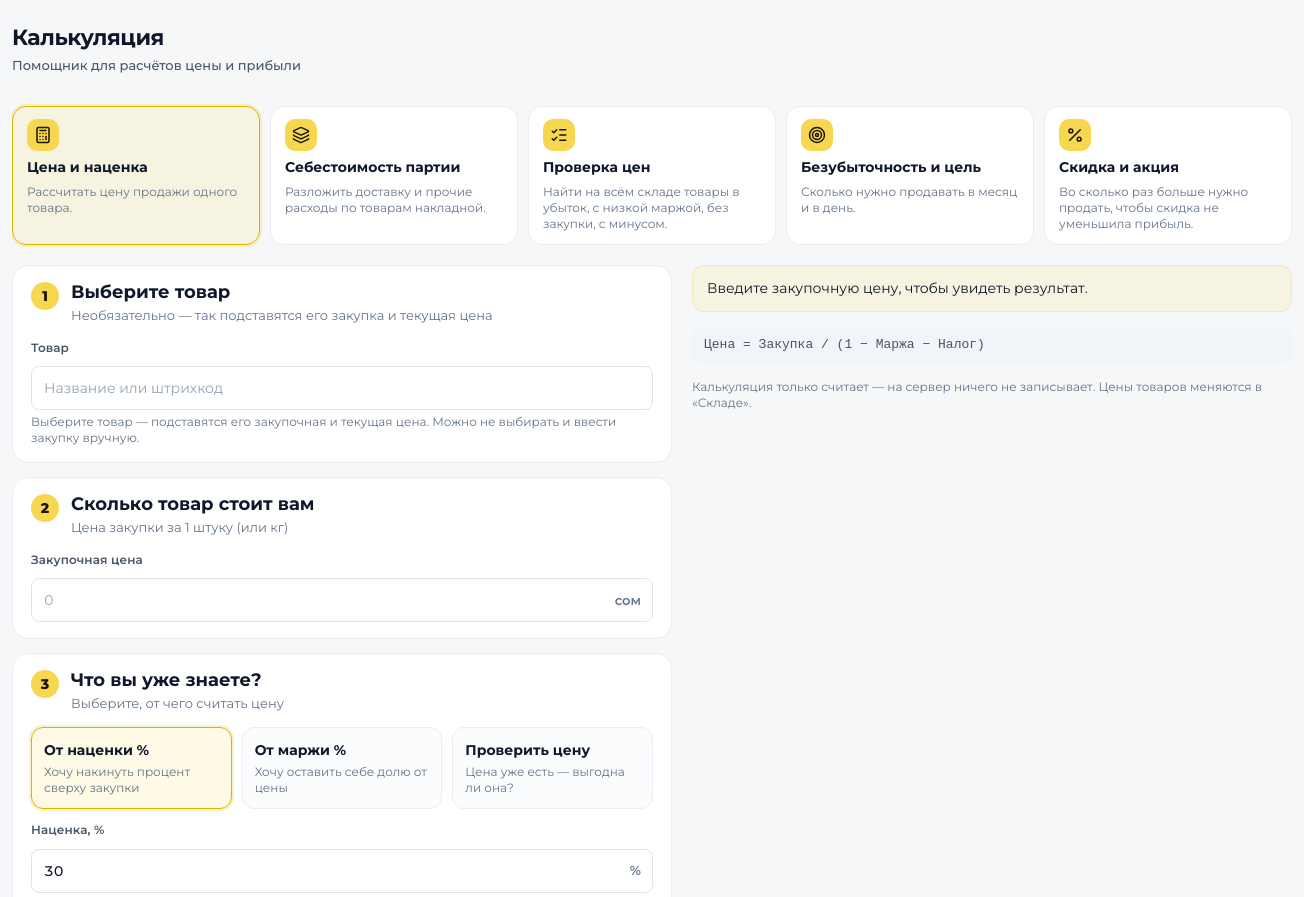
it: Калькуляция › скидка: маржа 30 %, скидка 10 % → в 1,5 раз(а)
The width and height of the screenshot is (1304, 897).
Step 1. Click the tab "Скидка и акция" → (1168,176), box left=1044, top=106, right=1292, bottom=245
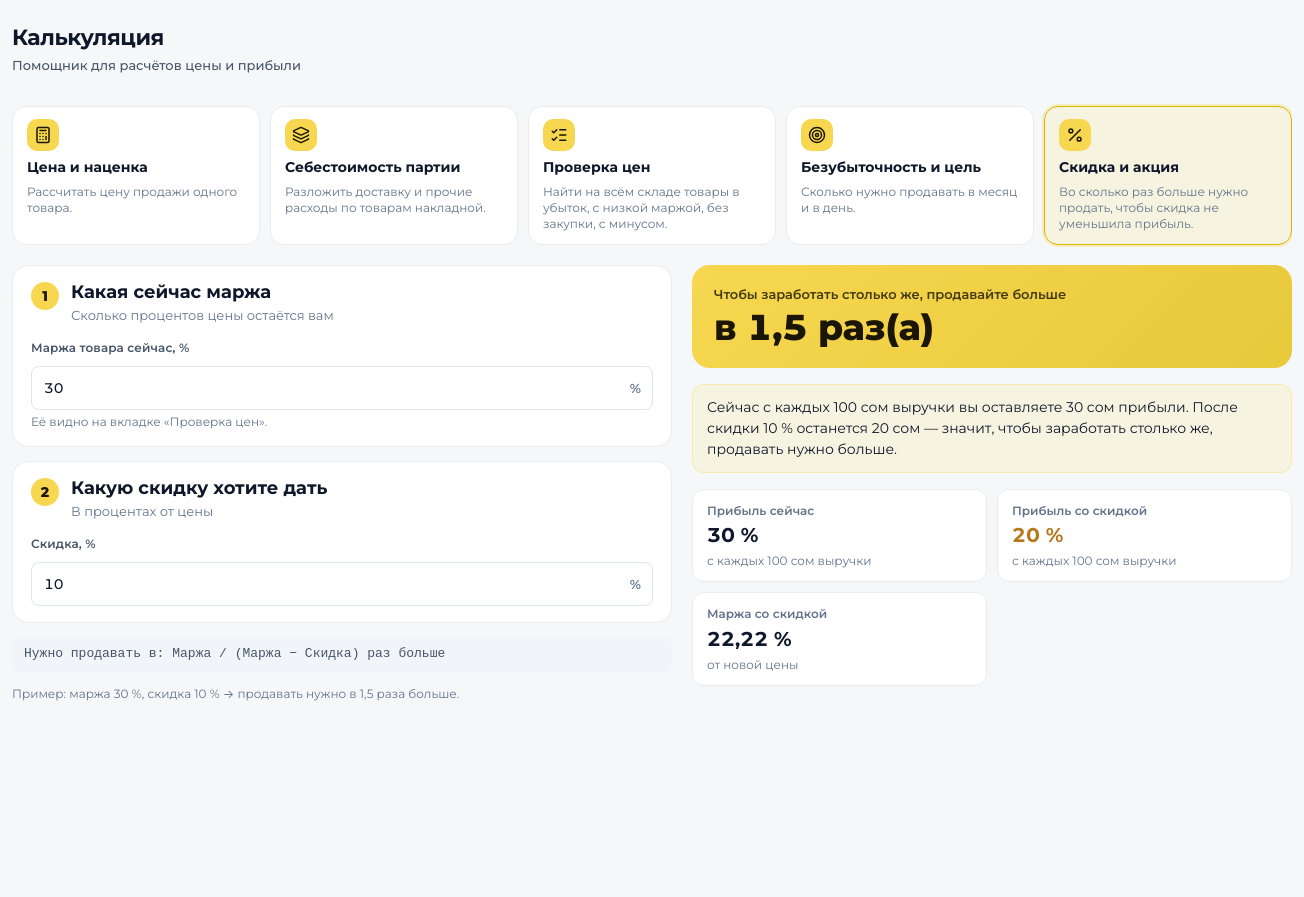
Expected: the text "в 1,5 раз(а)" is shown, left=714, top=305, right=934, bottom=349
